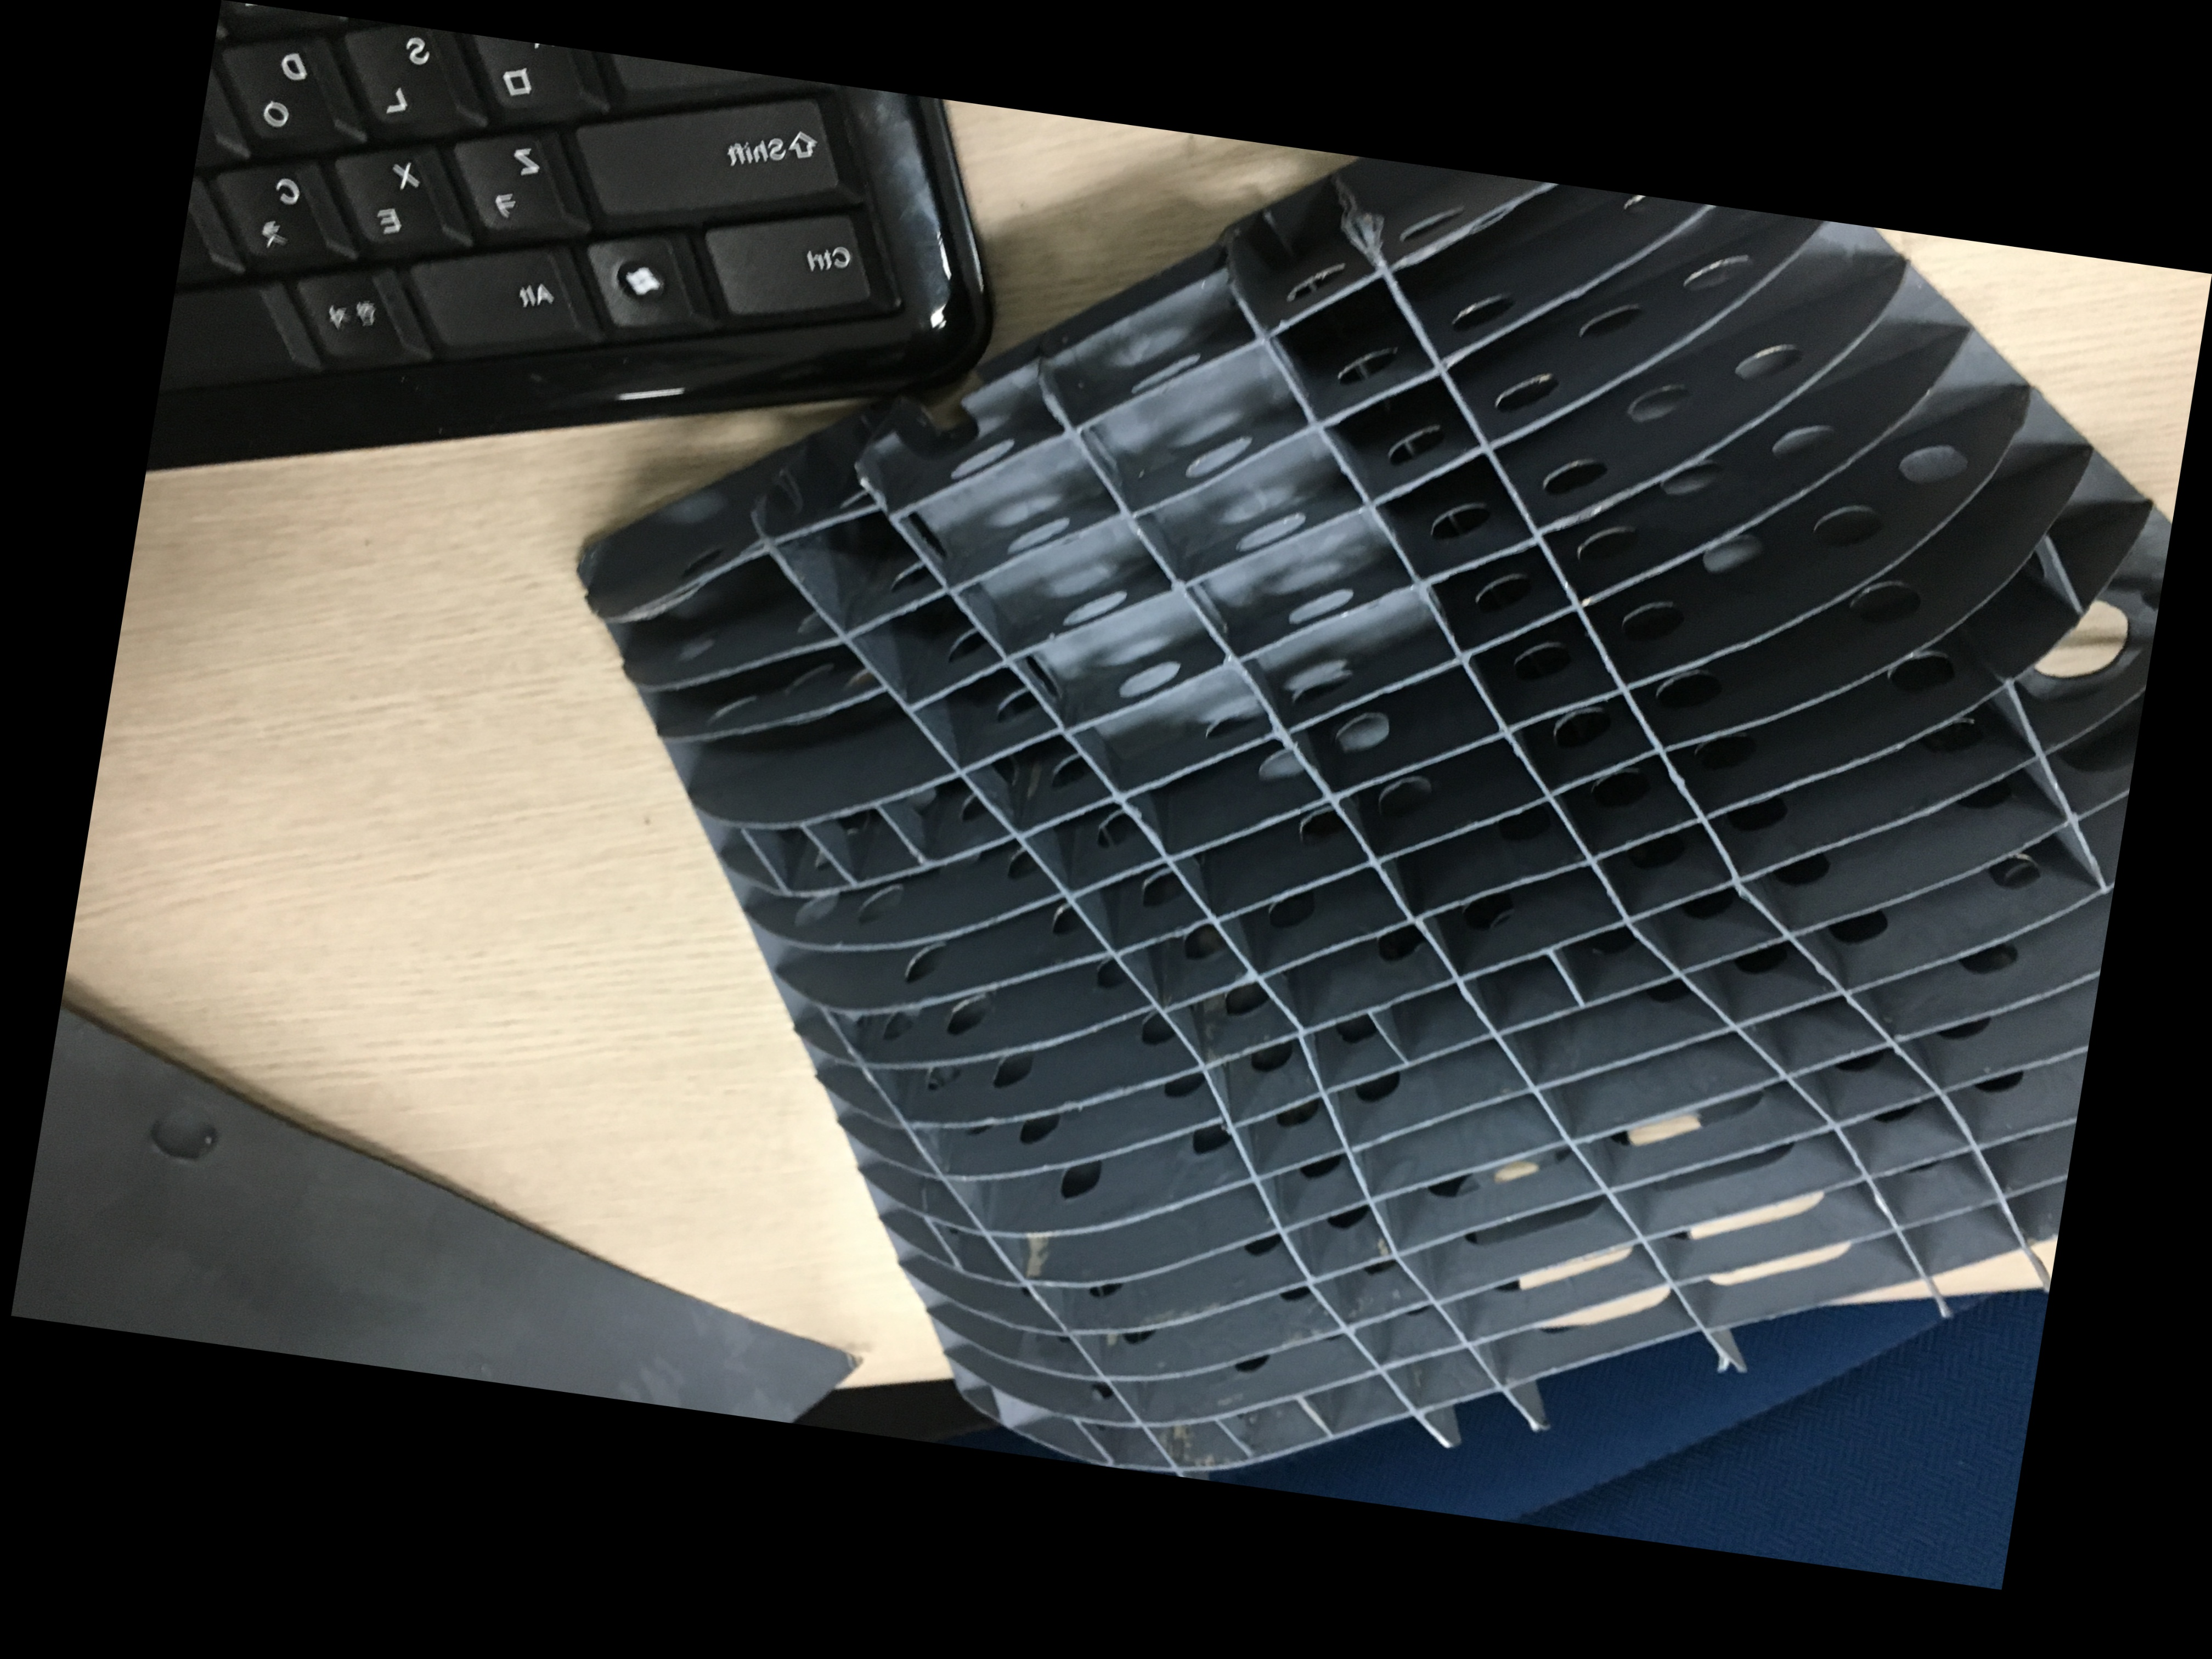A: (12, 3, 1862, 1535)
